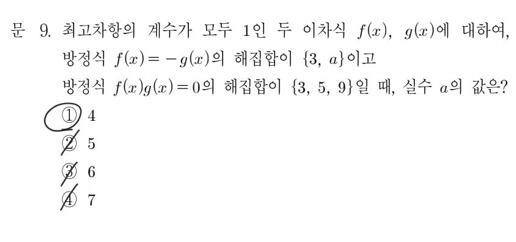1: (43, 102, 84, 133)
paper: (58, 104, 79, 126), (59, 131, 80, 153), (58, 159, 79, 181), (59, 189, 80, 211)
